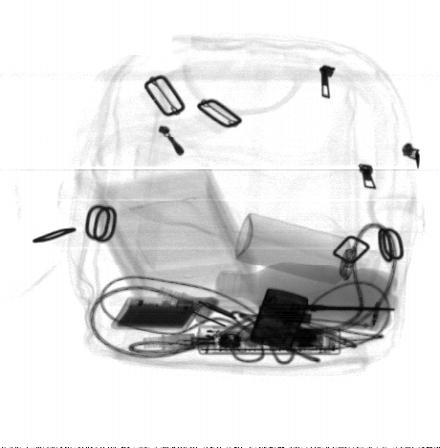Lighter: (250, 289, 310, 351)
Powerbank: (110, 295, 206, 335)
Scissors: (257, 276, 399, 320)
Sprayer: (231, 212, 380, 285)
